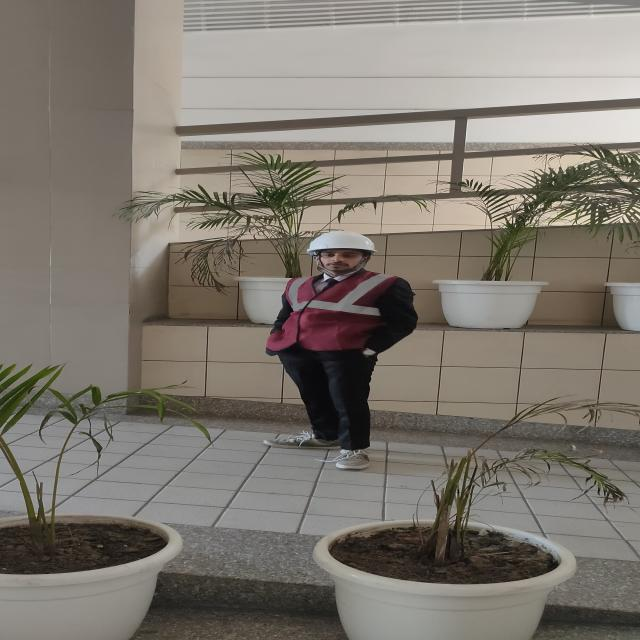safe: (265, 232, 418, 469)
